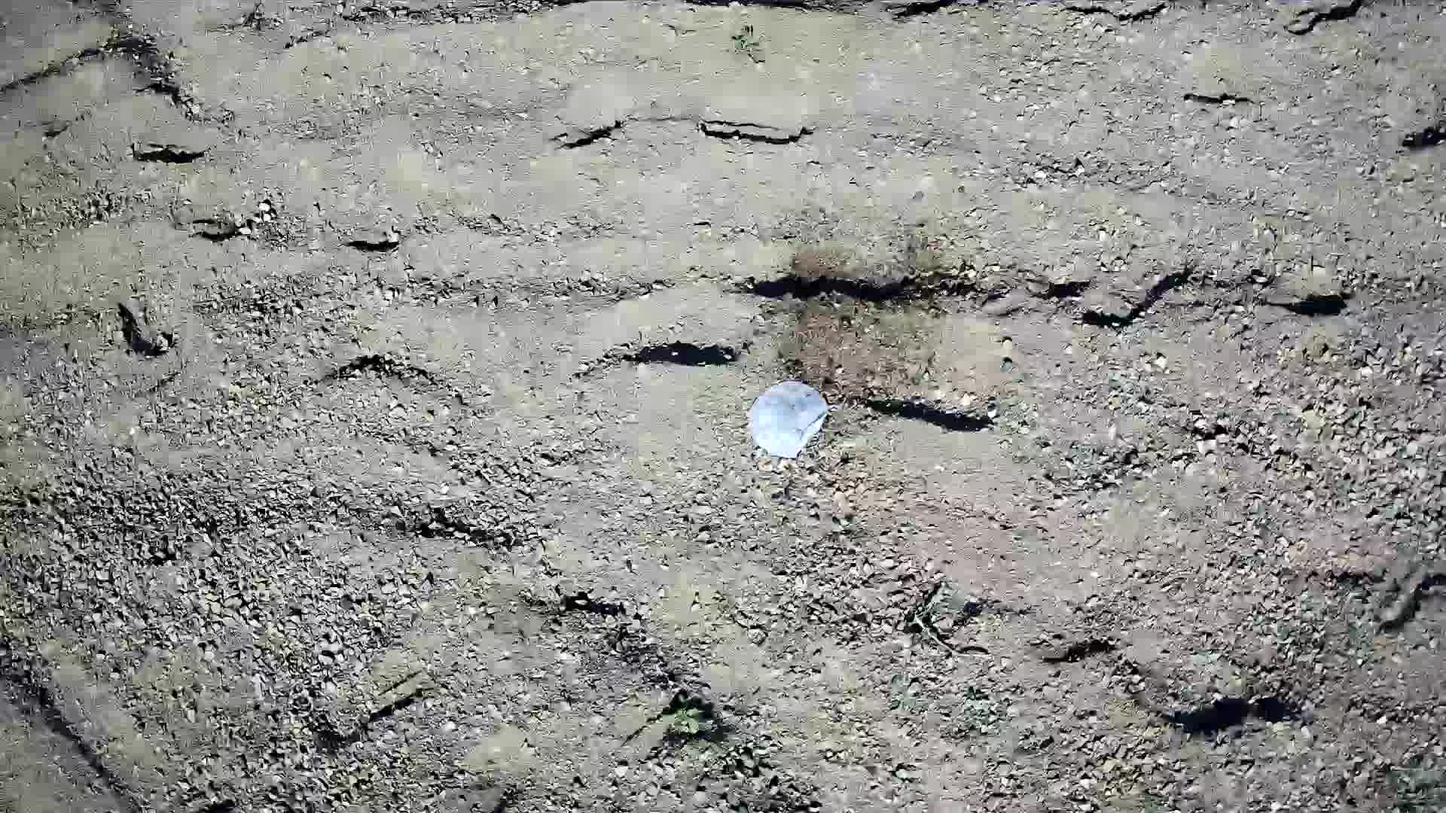Target: (745, 381, 827, 458)
